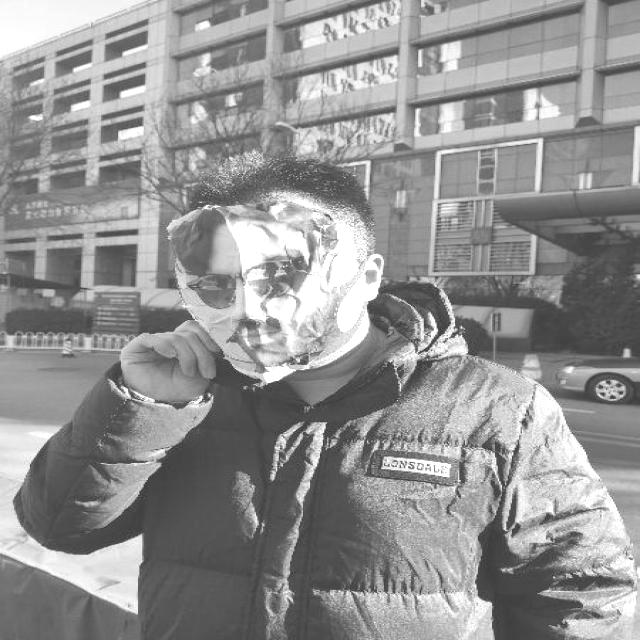fake: (170, 204, 348, 372)
